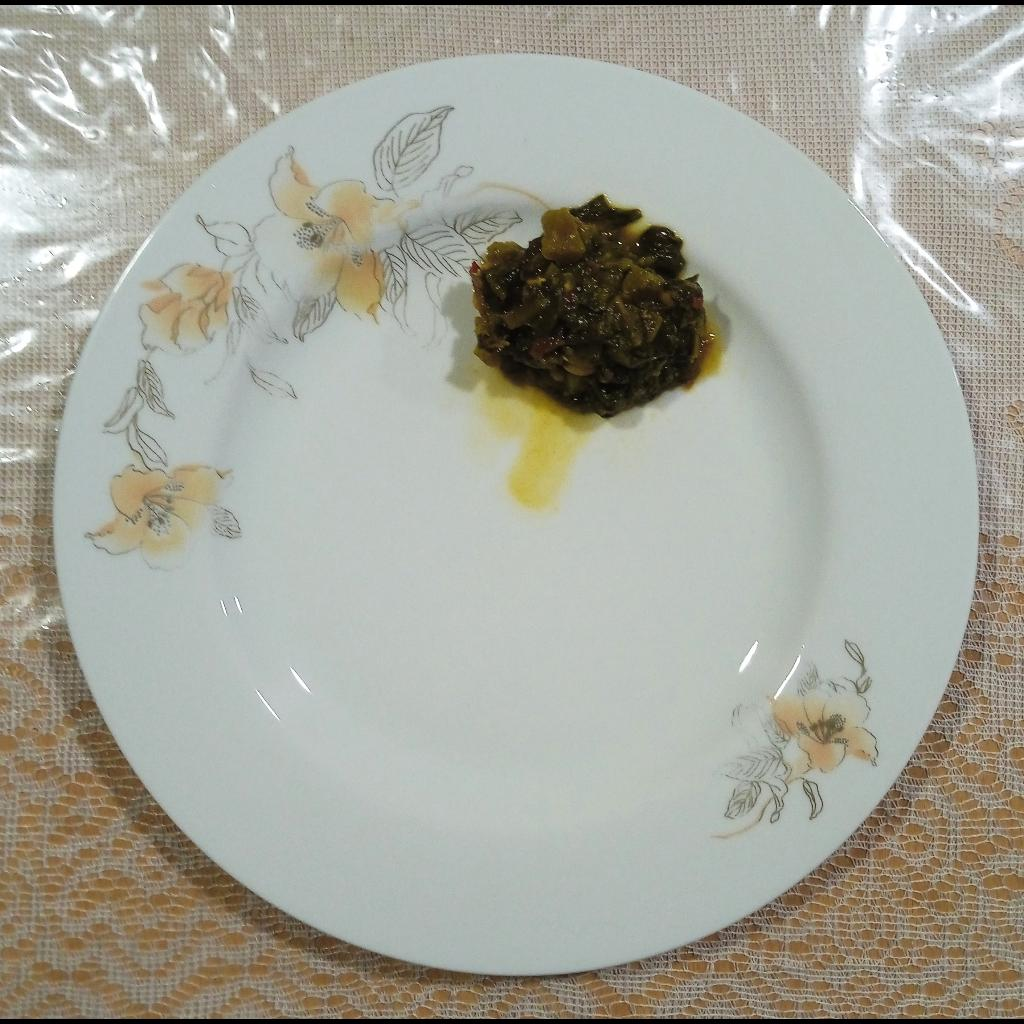shak: (468, 194, 713, 423)
